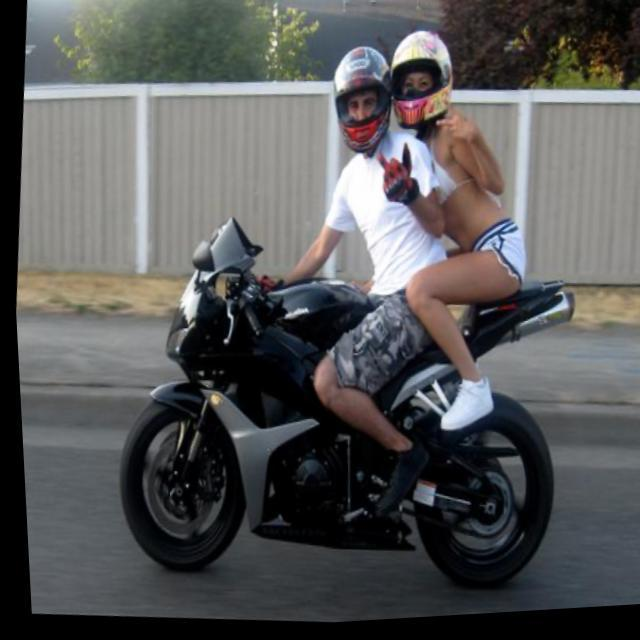Helmet: (380, 25, 462, 131), (324, 39, 392, 157)
